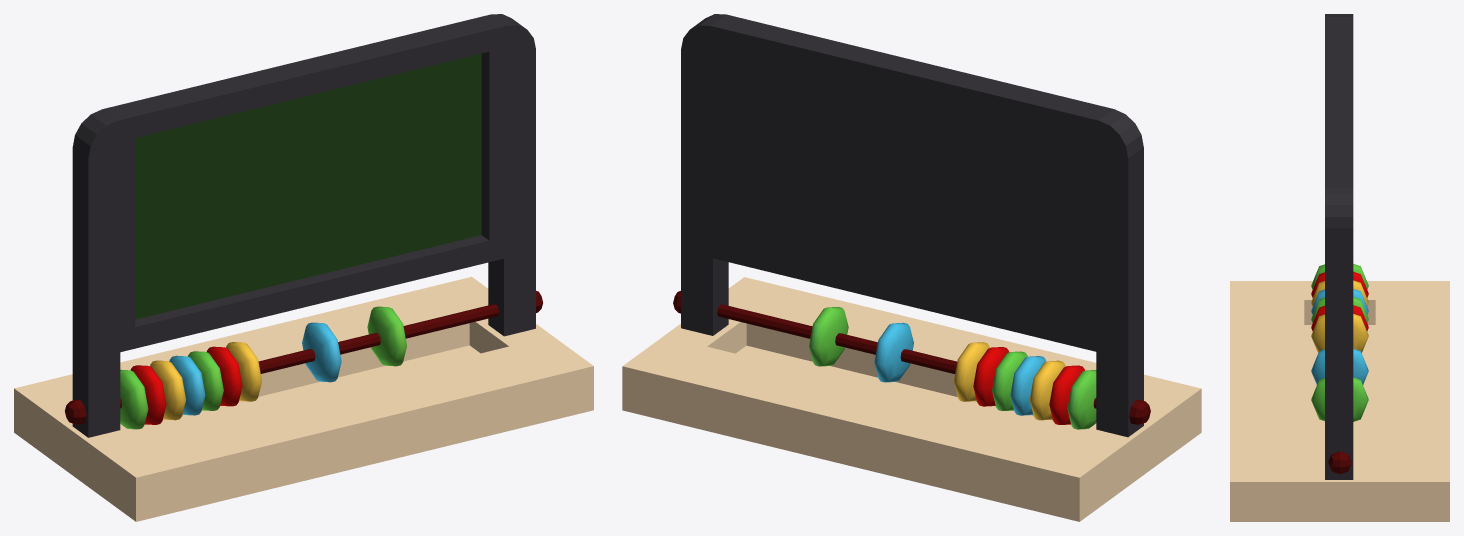
File: Prop_MathToy.fbx
3 views of the same model, side by side, from view 1: azimuth 30°, elevation 25°; view 2: azimuth 150°, elevation 25°; view 3: azimuth 270°, elevation 25° (orthographic). The views are drawn at different scales.
Visible parts, largest first — view 1: Prop_MathToy; view 2: Prop_MathToy; view 3: Prop_MathToy.
Part boxes in pixels (x1,y1,x2,y2): Prop_MathToy: (14, 14, 593, 521); Prop_MathToy: (622, 14, 1201, 521); Prop_MathToy: (1230, 14, 1449, 521).
Size of the model in its own units: 36.42 by 26.03 by 16.26.
